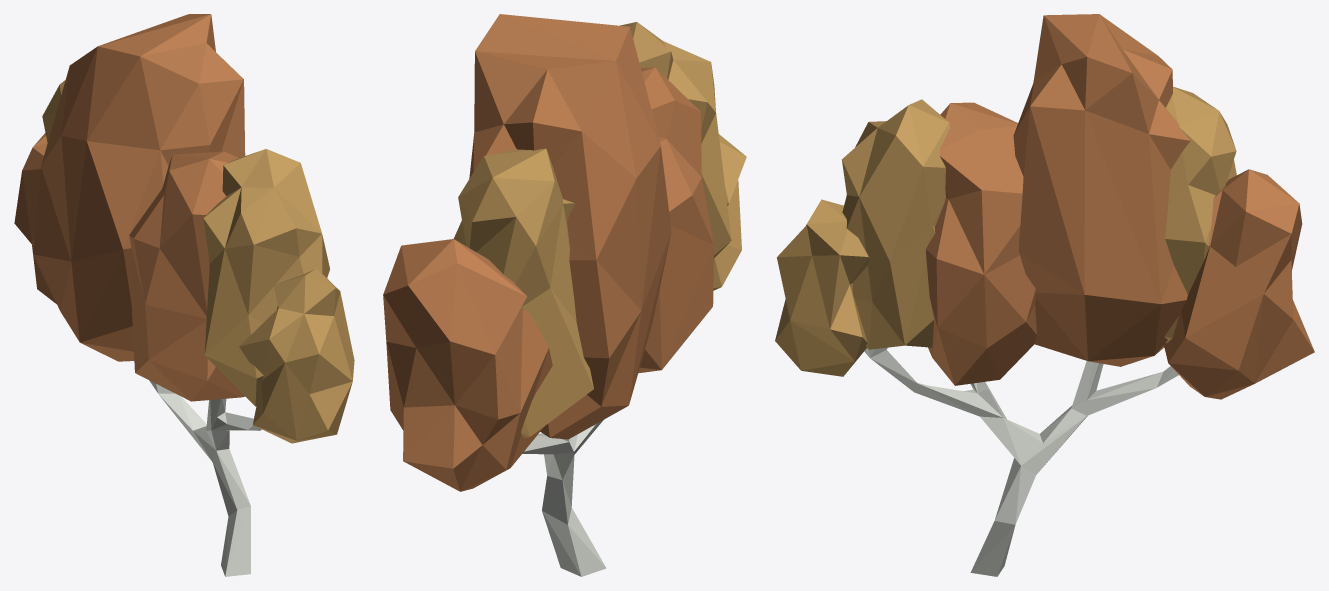
File: BirchTree_Autumn_4.lod2.glb
3 renders of one model, left to right at view 1: azimuth 30°, elevation 25°; view 2: azimuth 150°, elevation 25°; view 3: azimuth 270°, elevation 25°, orthographic. The views are drawn at different scales.
Visible parts, largest first — view 1: BirchTree_Autumn_4; view 2: BirchTree_Autumn_4; view 3: BirchTree_Autumn_4.
Boxes of the visible parts, x1,y1,x2,y2 form: BirchTree_Autumn_4: (14, 14, 354, 576); BirchTree_Autumn_4: (383, 14, 746, 576); BirchTree_Autumn_4: (775, 14, 1314, 576).
Bounding box in the file's own units: 1.16 × 3.53 × 3.29.
